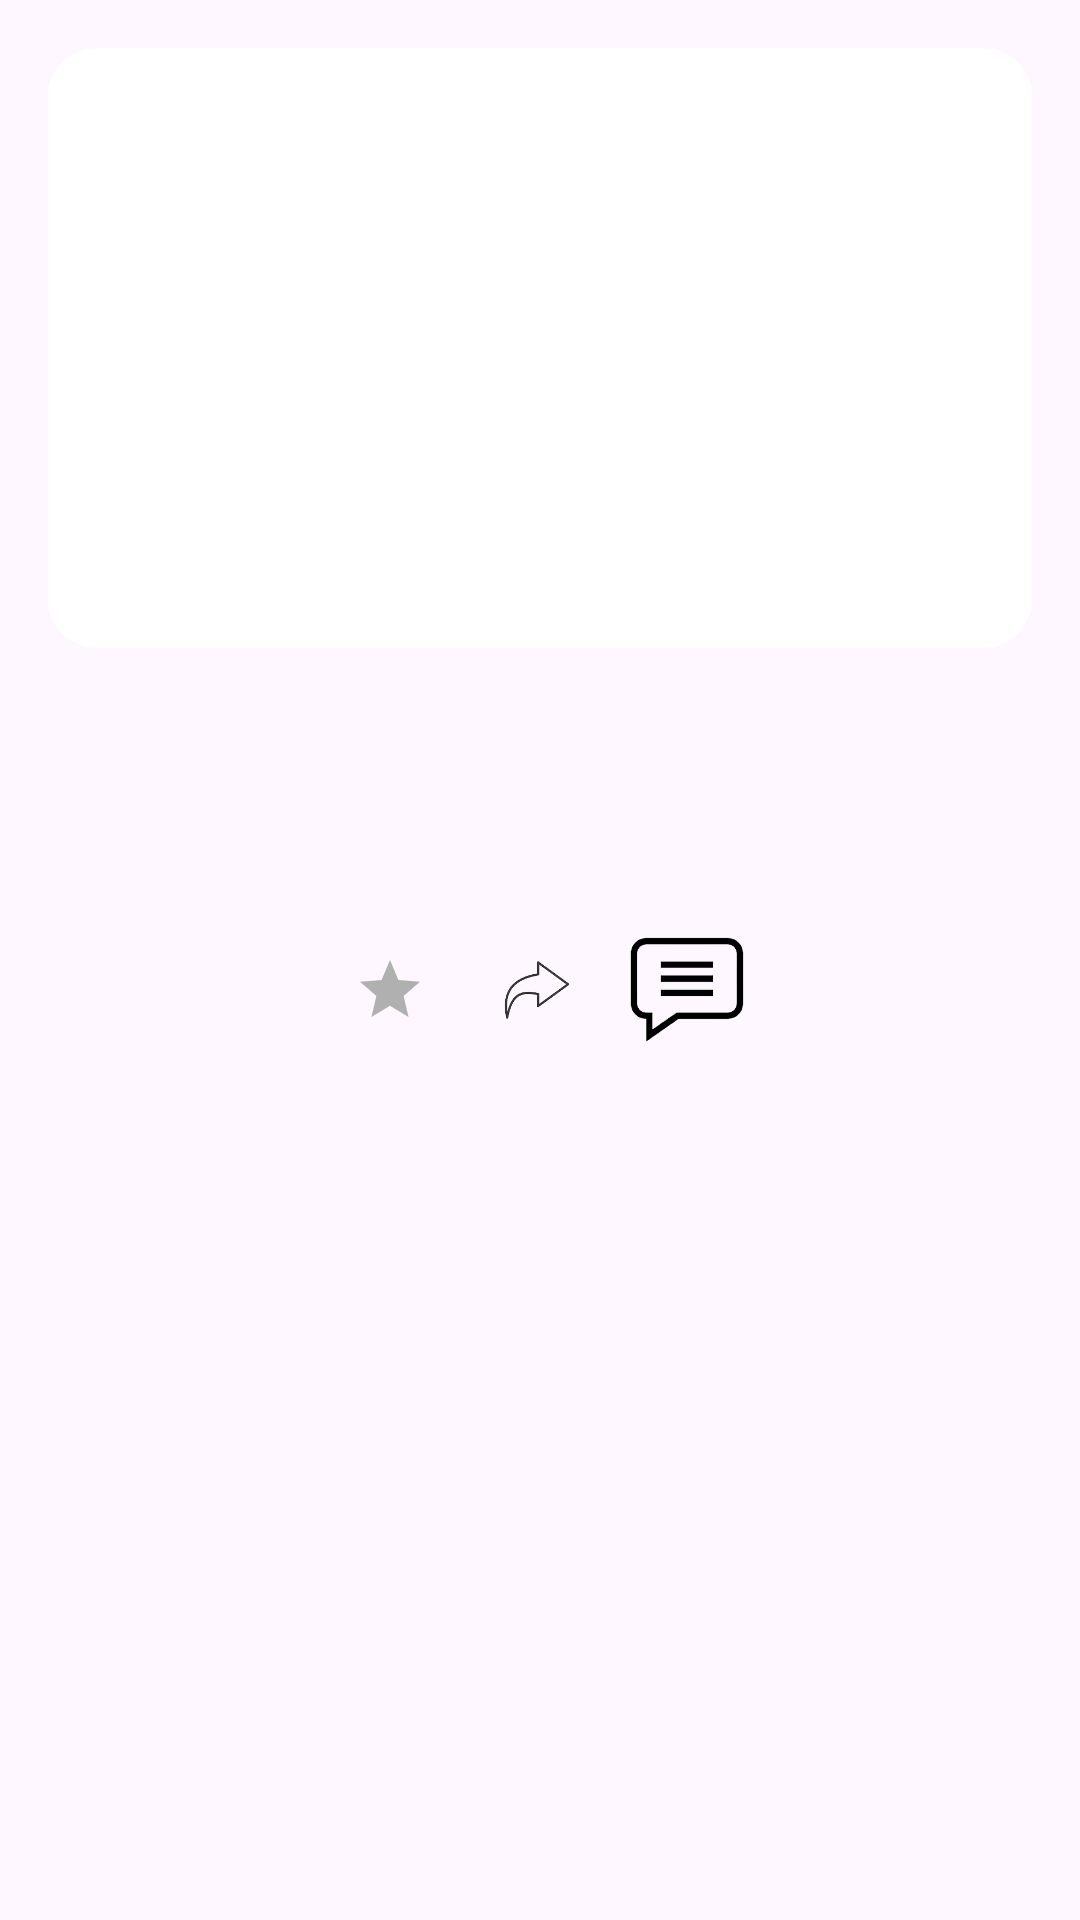

Locate icon controls on the screen. Image size 1080x1920, boxes as (x1, y1, x2, y2).
comment: (630, 938, 744, 1041)
share: (505, 961, 569, 1019)
